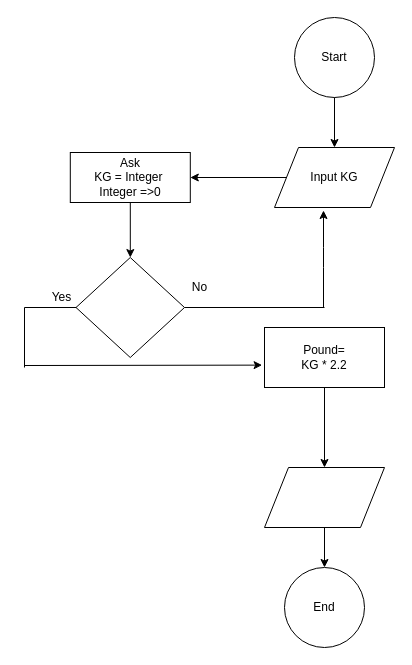
Some shapes in this 412 by 665 pixel diagram are drawn without their labels. Each missing label, with the box of its shape:
Integer ? Integer => 0 ?: (75, 256, 184, 358)
Pound: (264, 466, 384, 528)
